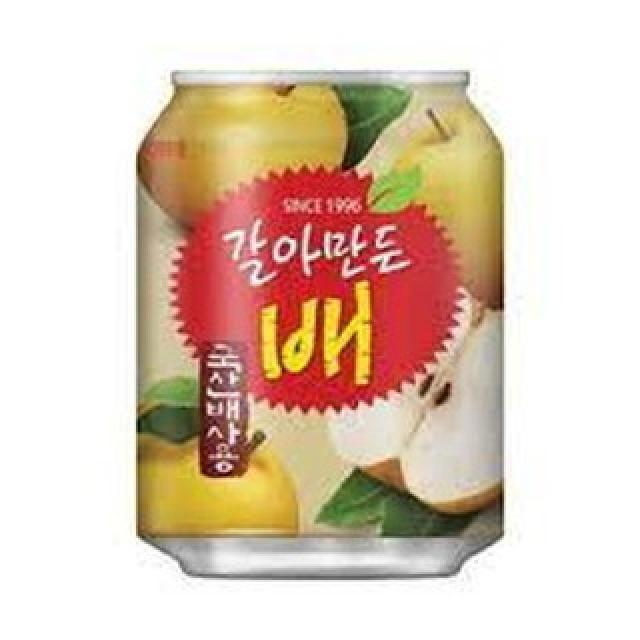can: (135, 66, 508, 584)
